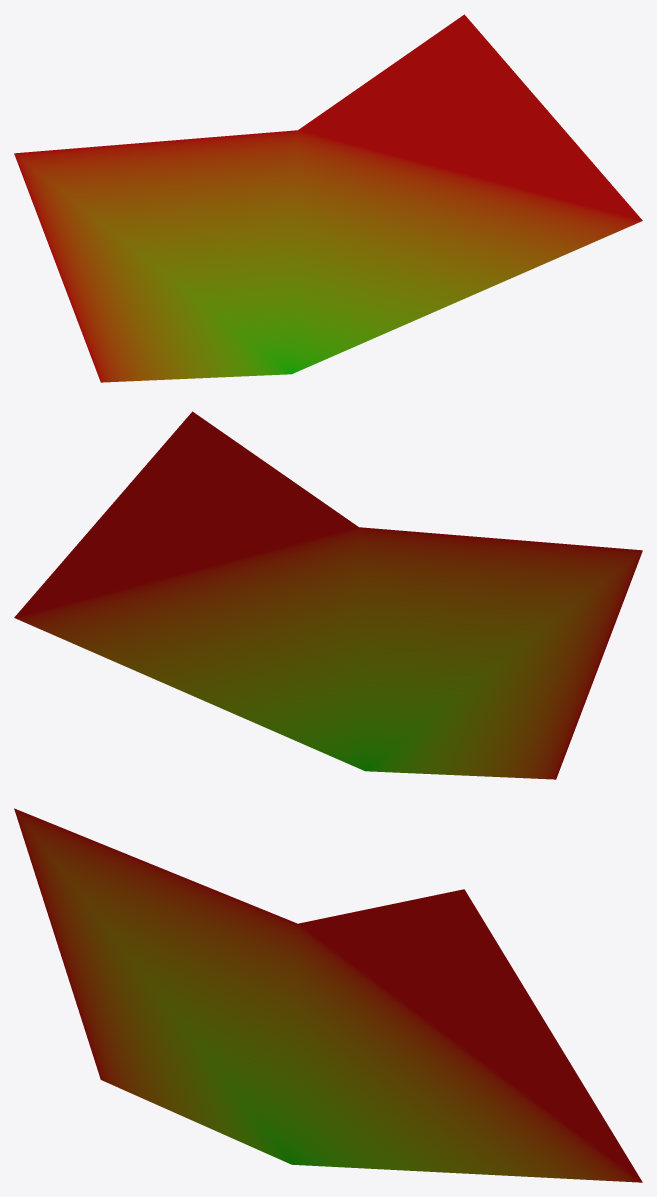
File: Raspberry_LOD4_Var2_wf0oefeja.fbx
The picture shows the model from 3 angles, top to bottom: view 1: azimuth 30°, elevation 25°; view 2: azimuth 150°, elevation 25°; view 3: azimuth 330°, elevation 25°; orthographic projection.
Parts seen in each view (by area): view 1: _xwt5_Var2_LOD4; view 2: _xwt5_Var2_LOD4; view 3: _xwt5_Var2_LOD4.
Part boxes in pixels (x1,y1,x2,y2): _xwt5_Var2_LOD4: (14, 14, 642, 382); _xwt5_Var2_LOD4: (14, 411, 642, 779); _xwt5_Var2_LOD4: (14, 808, 642, 1182).
Size of the model in its own units: 153 by 74.07 by 8.83e-06.
